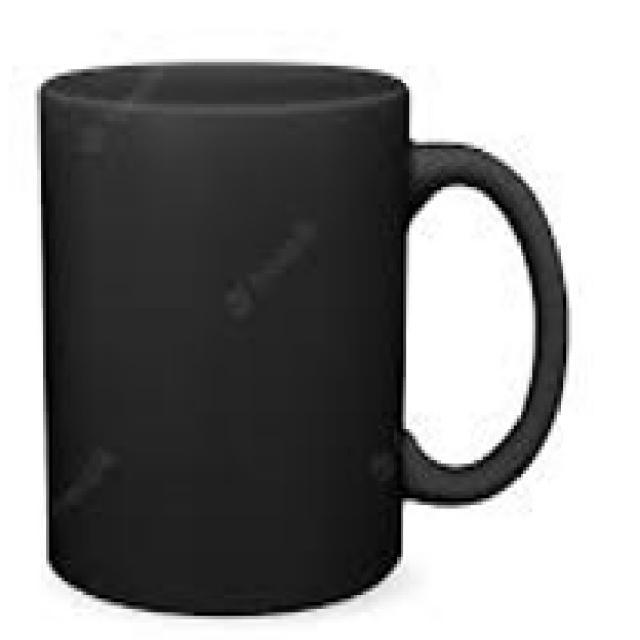taza: (34, 59, 570, 618)
